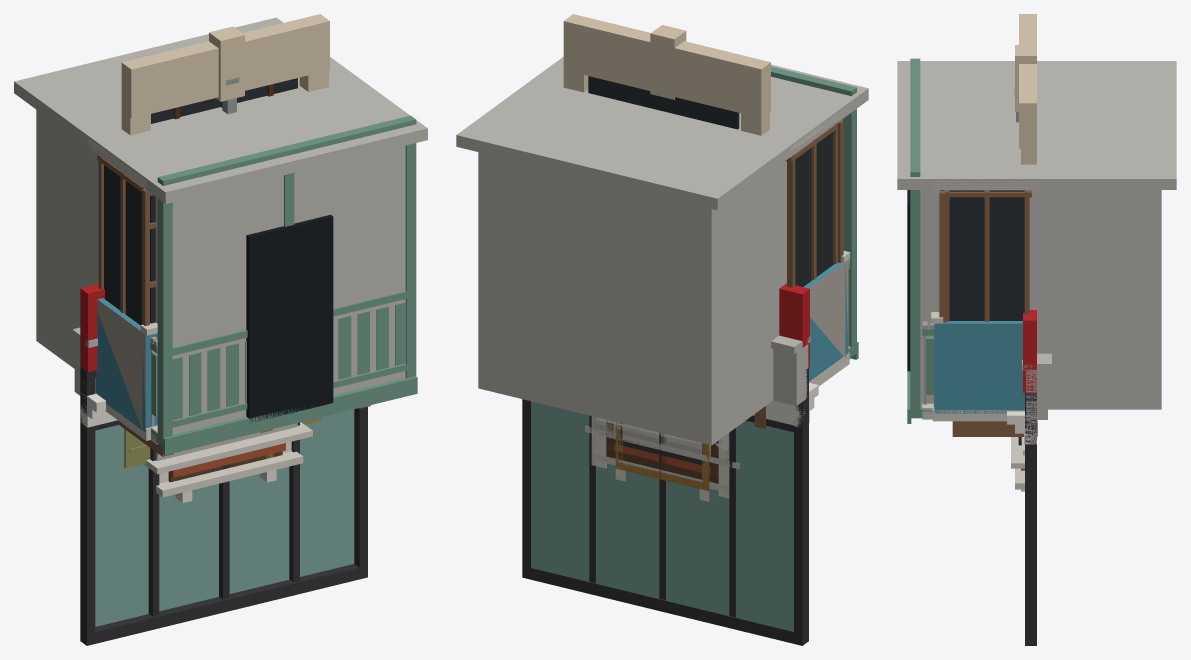
The model's file is facade_kit.glb.
The picture shows the model from 3 angles, left to right: view 1: azimuth 30°, elevation 25°; view 2: azimuth 150°, elevation 25°; view 3: azimuth 270°, elevation 25°; orthographic projection. The views are drawn at different scales.
Parts seen in each view (by area): view 1: ac; view 2: ac; view 3: ac.
Boxes of the visible parts, x1,y1,x2,y2 form: ac: [14, 14, 427, 645]; ac: [456, 14, 868, 645]; ac: [897, 14, 1176, 645].
Size of the model in its own units: 3 by 5.89 by 2.8.
Materials: 1 (1 with a texture image).
